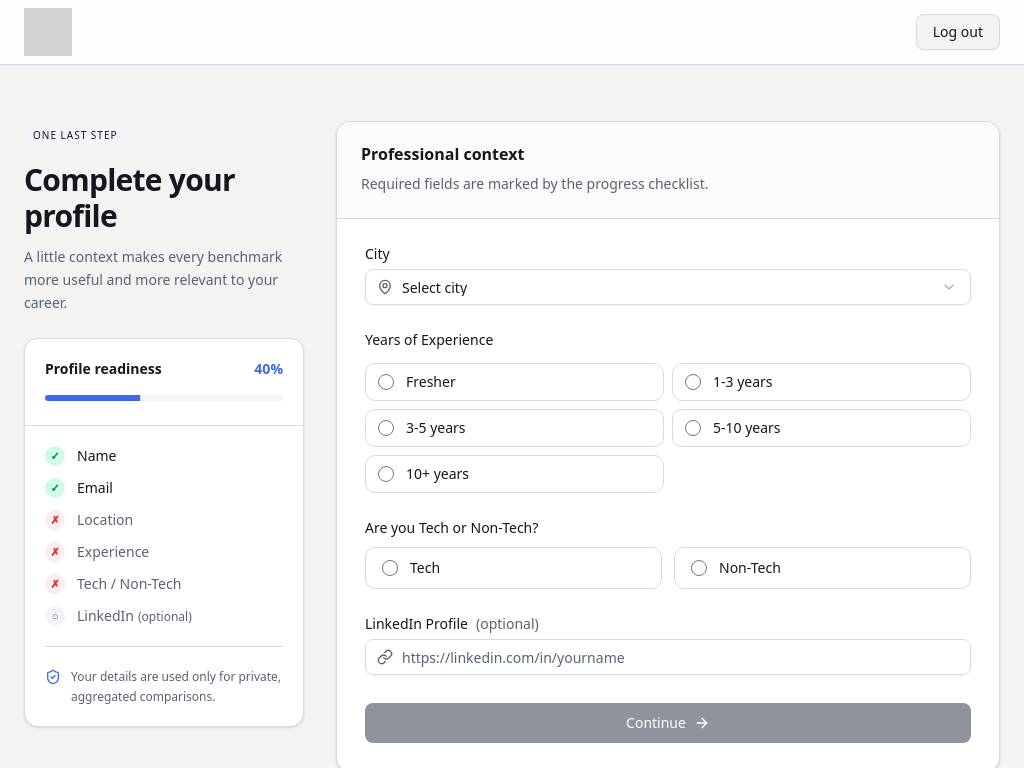
it: restores profile completion after a network failure
Step 1. Select "Hyderabad" in the dropdown labelled "City" → point(668, 287), box [365,269,971,305]
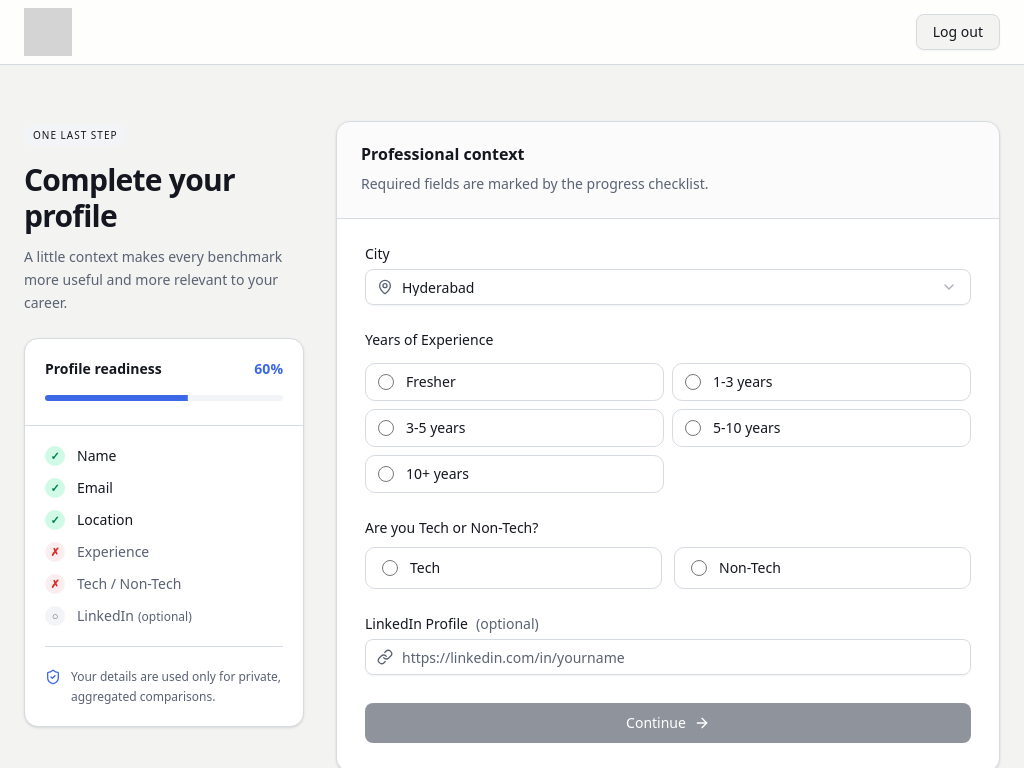
Step 2. Click the radio button labelled "1-3 years" → point(693, 382), box [685,374,701,390]
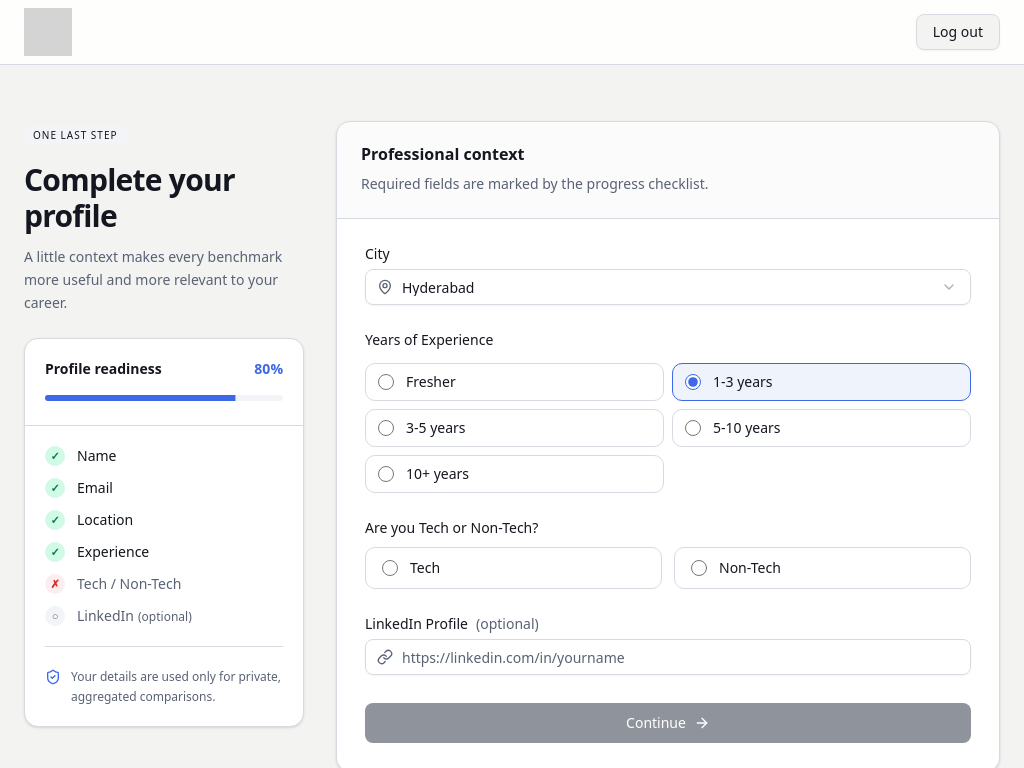
Step 3. Click the radio button labelled "Tech" → point(390, 568), box [382,560,398,576]
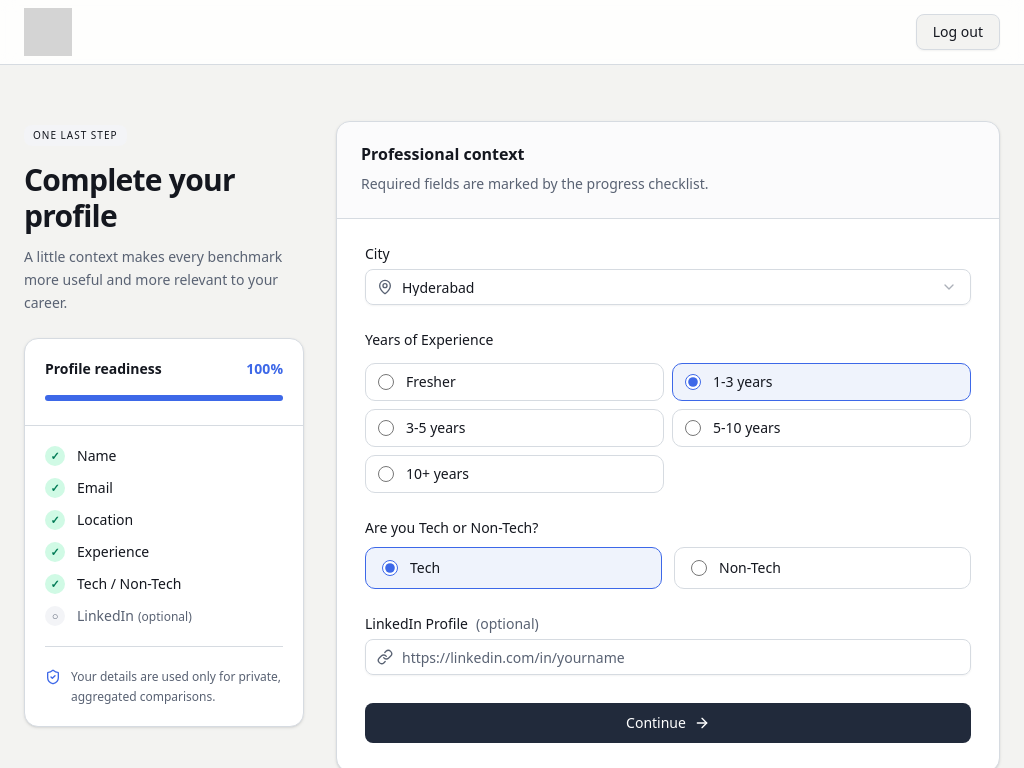
Step 4. Click the button "Continue" → point(668, 723), box [365,703,971,743]
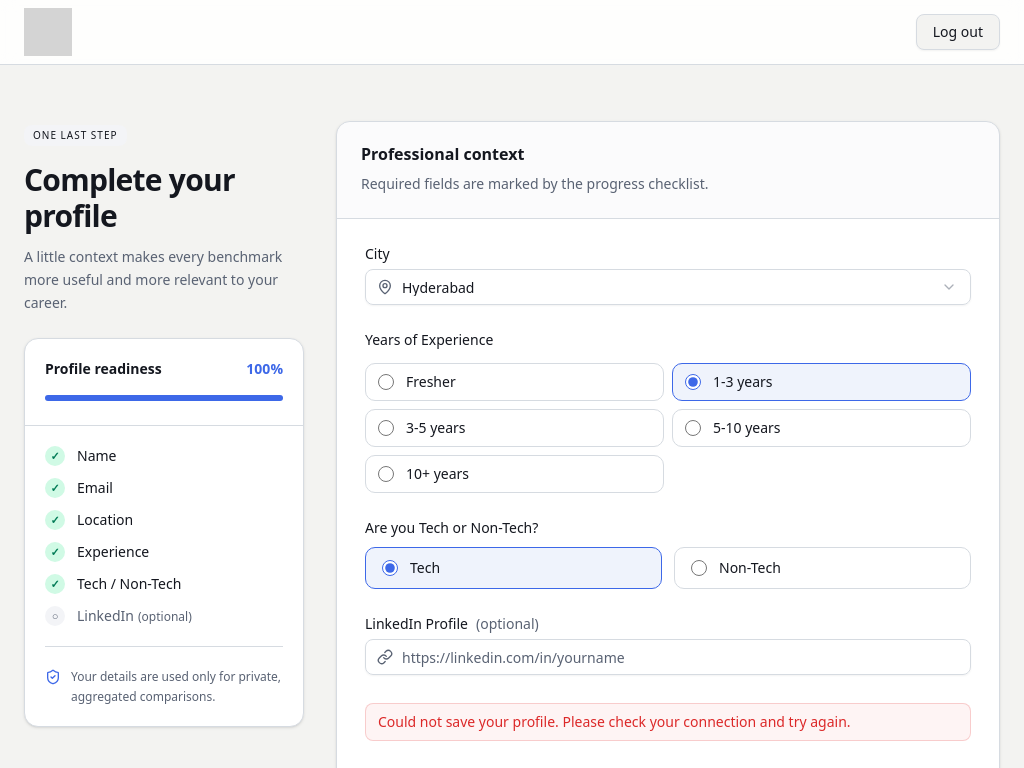
Check: the message shows "try again", box [378,712,851,731]
